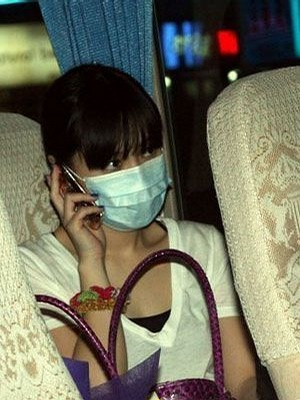face_mask: (93, 117, 166, 231)
